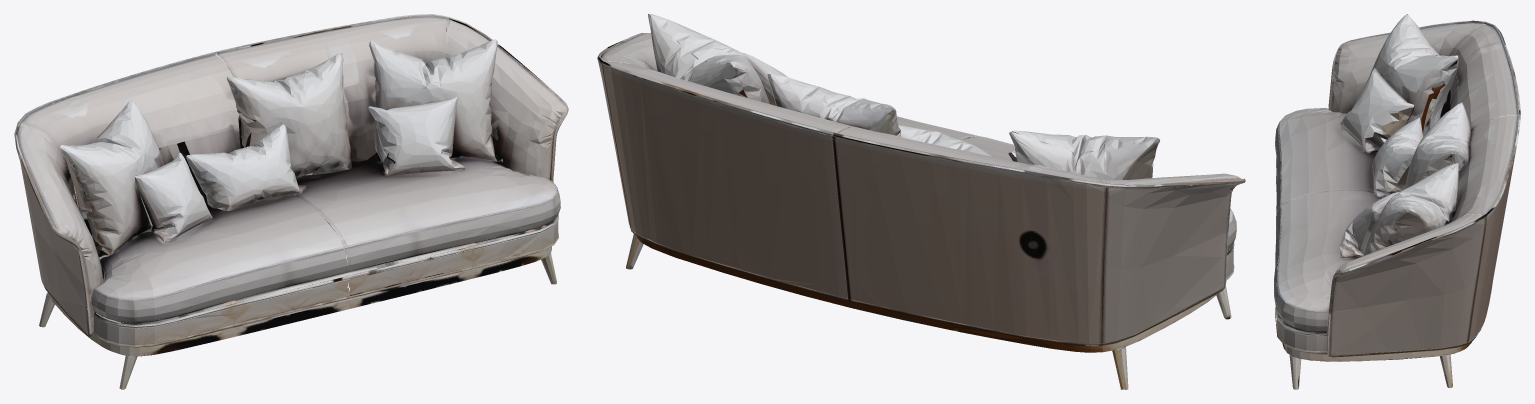
The model's file is edited_mesh.glb.
3 renders of one model, left to right at view 1: azimuth 30°, elevation 25°; view 2: azimuth 150°, elevation 25°; view 3: azimuth 270°, elevation 25°, orthographic. The views are drawn at different scales.
Visible parts, largest first — view 1: solid_001_wire; view 2: solid_001_wire; view 3: solid_001_wire.
Part boxes in pixels (x1,y1,x2,y2): solid_001_wire: (14,14,568,389); solid_001_wire: (597,14,1245,389); solid_001_wire: (1274,14,1520,389).
Size of the model in its own units: 2 by 0.7466 by 0.909.
1 material, 1 textured.
